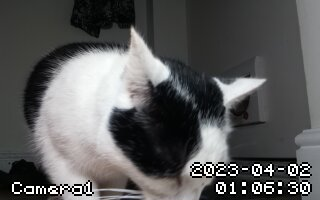bad: (24, 27, 267, 200)
